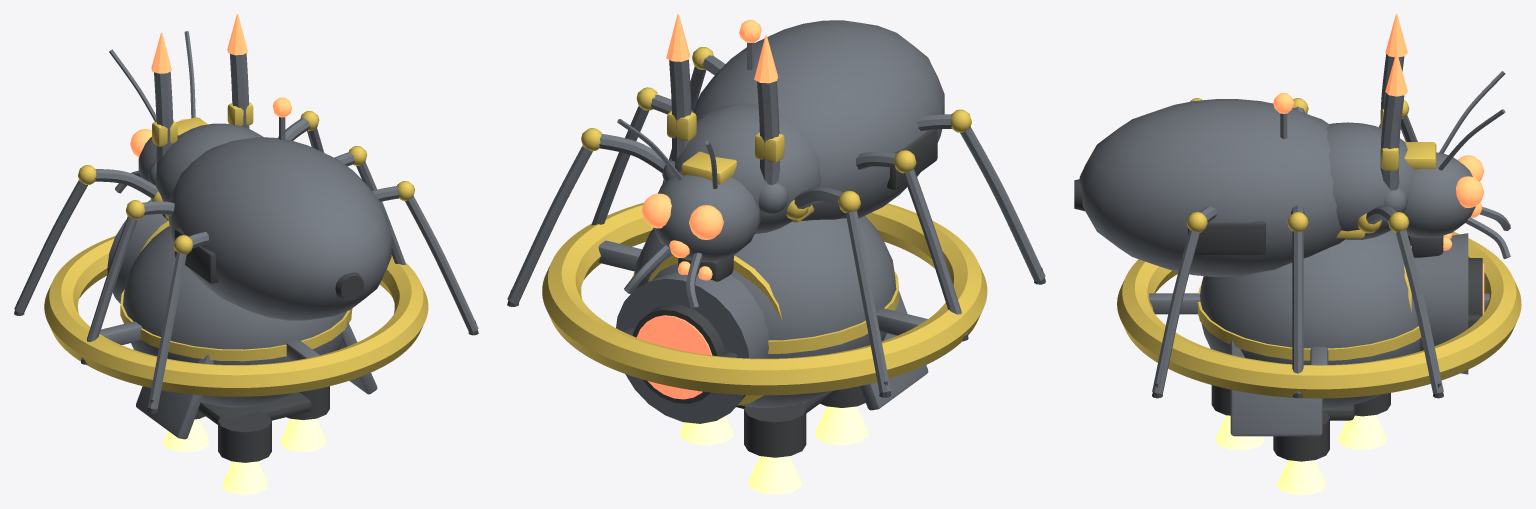
File: robots.glb
The picture shows the model from 3 angles, left to right: view 1: azimuth 30°, elevation 25°; view 2: azimuth 150°, elevation 25°; view 3: azimuth 270°, elevation 25°; orthographic projection. The views are drawn at different scales.
Parts seen in each view (by area): view 1: Bug_Shell, Drone_Shell, Drone_Ring, Drone_Thrusters, Claw_L, Bug_Head, LegL.002, LegL, LegL.005, Claw_R, LegL.001, Drone_Gun (+2 smaller); view 2: Bug_Shell, Drone_Ring, Drone_Shell, Drone_Gun, Bug_Head, Drone_Thrusters, Claw_L, Claw_R, LegL, LegL.002, LegL.003, LegL.001 (+5 smaller); view 3: Bug_Shell, Drone_Shell, Drone_Ring, Bug_Head, Drone_Gun, Drone_Thrusters, Claw_R, LegL.003, LegL.005, LegL.004, Claw_L, LegU.003.
Part boxes in pixels (x1=…): Bug_Shell: x1=155, y1=123, x2=391, y2=320; Drone_Shell: x1=120, y1=97, x2=377, y2=439; Drone_Ring: x1=44, y1=236, x2=428, y2=396; Drone_Thrusters: x1=163, y1=386, x2=329, y2=494; Claw_L: x1=148, y1=32, x2=177, y2=185; Bug_Head: x1=109, y1=31, x2=207, y2=193; LegL.002: x1=147, y1=235, x2=193, y2=413; LegL: x1=14, y1=165, x2=96, y2=315; LegL.005: x1=397, y1=181, x2=478, y2=335; Claw_R: x1=227, y1=14, x2=253, y2=128; LegL.001: x1=81, y1=200, x2=144, y2=364; Drone_Gun: x1=107, y1=200, x2=169, y2=303; Bug_Shell: x1=674, y1=20, x2=944, y2=234; Drone_Ring: x1=542, y1=202, x2=987, y2=395; Drone_Shell: x1=631, y1=20, x2=928, y2=413; Drone_Gun: x1=616, y1=255, x2=782, y2=423; Bug_Head: x1=617, y1=119, x2=760, y2=309; Drone_Thrusters: x1=680, y1=386, x2=868, y2=494; Claw_L: x1=754, y1=35, x2=788, y2=215; Claw_R: x1=662, y1=14, x2=696, y2=182; LegL: x1=838, y1=190, x2=891, y2=397; LegL.002: x1=950, y1=109, x2=1045, y2=284; LegL.003: x1=507, y1=128, x2=601, y2=306; LegL.001: x1=894, y1=150, x2=968, y2=341; Bug_Shell: x1=1074, y1=99, x2=1414, y2=276; Drone_Shell: x1=1198, y1=93, x2=1421, y2=436; Drone_Ring: x1=1117, y1=231, x2=1521, y2=398; Bug_Head: x1=1404, y1=71, x2=1510, y2=259; Drone_Gun: x1=1404, y1=233, x2=1484, y2=374; Drone_Thrusters: x1=1211, y1=385, x2=1390, y2=494; Claw_R: x1=1380, y1=53, x2=1407, y2=212; LegL.003: x1=1388, y1=212, x2=1443, y2=398; LegL.005: x1=1152, y1=212, x2=1207, y2=398; LegL.004: x1=1287, y1=212, x2=1308, y2=398; Claw_L: x1=1380, y1=14, x2=1407, y2=128; LegU.003: x1=1357, y1=205, x2=1396, y2=233.
Bounding box in the file's own units: 1.14 × 1.31 × 1.26.
